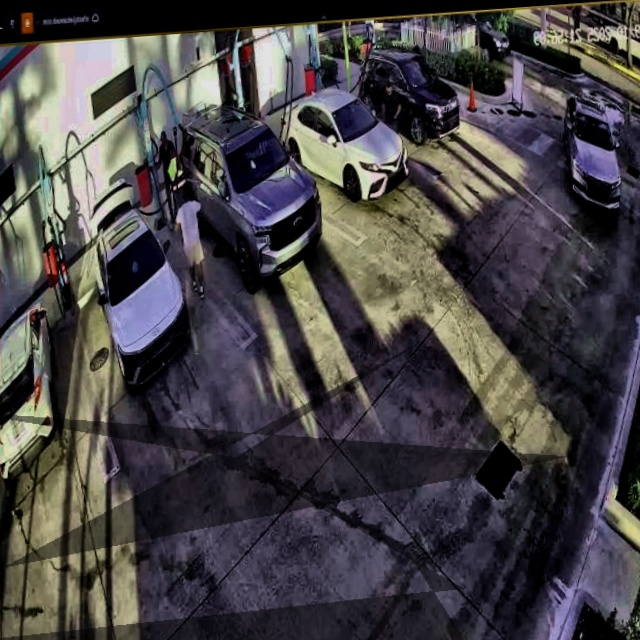Car: (167, 97, 335, 301), (80, 169, 208, 385), (274, 84, 415, 209)
